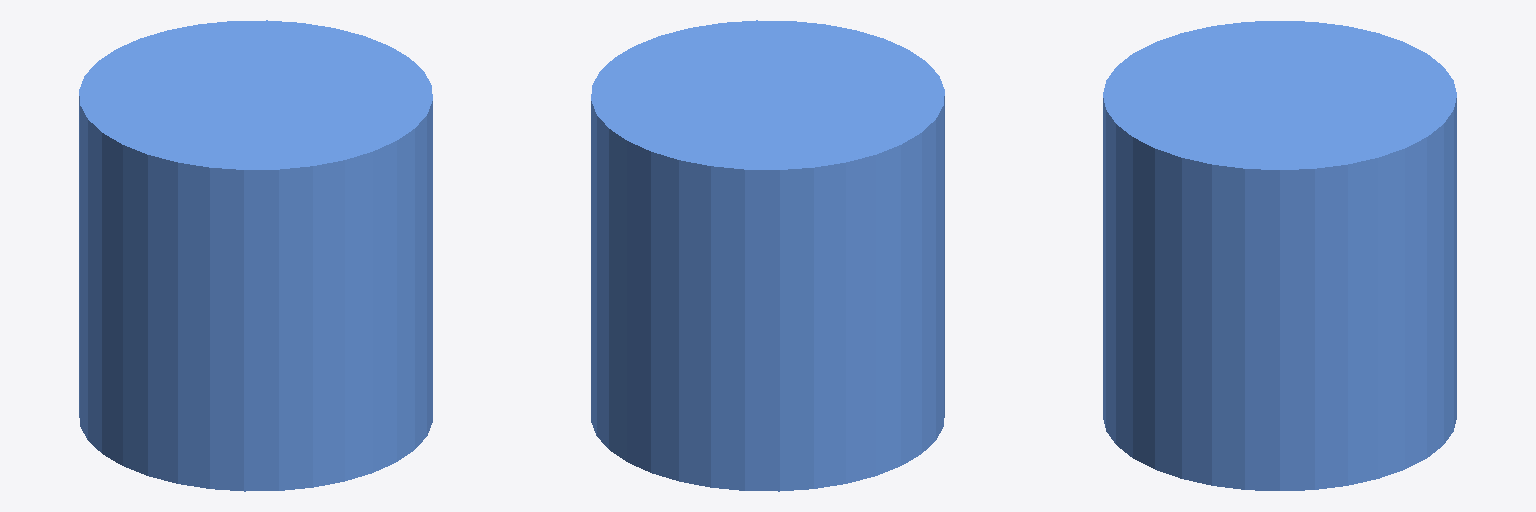
The robot description file, URDF, robot "lbr_iiwa":
<?xml version="1.0" ?>
<robot name="lbr_iiwa" xmlns:xacro="http://www.ros.org/wiki/xacro">
  <!-- Import Rviz colors -->
  <material name="Grey">
    <color rgba="0.2 0.2 0.2 1.0"/>
  </material>
  <material name="Orange">
    <color rgba="1.0 0.423529411765 0.0392156862745 1.0"/>
  </material>
  <material name="Blue">
    <color rgba="0.5 0.7 1.0 1.0"/>      
  </material>

  <link name="torso">
    <inertial>
      <origin rpy="0 0 0" xyz="0 0.0 0"/>
      <mass value="0"/>
      <inertia ixx="0.1" ixy="0" ixz="0" iyy="0.1" iyz="0" izz="0.1"/>
    </inertial>
    <visual>
      <!--origin rpy="1.57 0 1.57" xyz="0 0 0.83"/-->
      <origin rpy="0 0 0" xyz="0 0 0"/>
      <geometry>
        <cylinder radius=".15" length="0.3"/>
        <!--mesh filename="meshes/android.obj" scale="0.5 0.5 0.5"/-->
      </geometry>
      <material name="Blue"/>
    </visual>
    <collision>
      <origin rpy="0 0 0" xyz="0 0 0.0"/>
      <geometry>
        <cylinder radius=".15" length="0.3"/>
        <!--cylinder radius="0.45" length="1.66"/-->
      </geometry>
    </collision>
  	<contact>
      <lateral_friction value="1.0"/>
    </contact>
  </link>
</robot>

--- What the picture shows (computed from the rendered views, not written in the file) ---
Views: 3 orthographic renders of the robot side by side, from view 1: azimuth 30°, elevation 25°; view 2: azimuth 150°, elevation 25°; view 3: azimuth 270°, elevation 25°.
Model lbr_iiwa with 1 links and 0 joints (none), rooted at torso, posed every joint at zero.
Links seen in each view (by area): view 1: torso; view 2: torso; view 3: torso.
Boxes of the visible links, bbox=[...] form: torso: bbox=[79, 20, 432, 491]; torso: bbox=[591, 20, 944, 491]; torso: bbox=[1103, 21, 1456, 490].
Bounding box of the posed robot: 0.3 × 0.3 × 0.3 m (x, y, z).
Geometry: primitives only (box / cylinder / sphere), no mesh files.